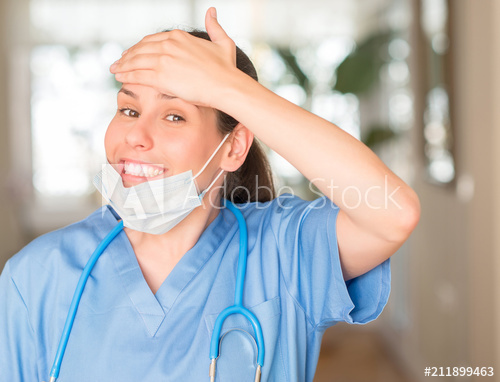mask_weared_incorrect: (93, 86, 258, 237)
